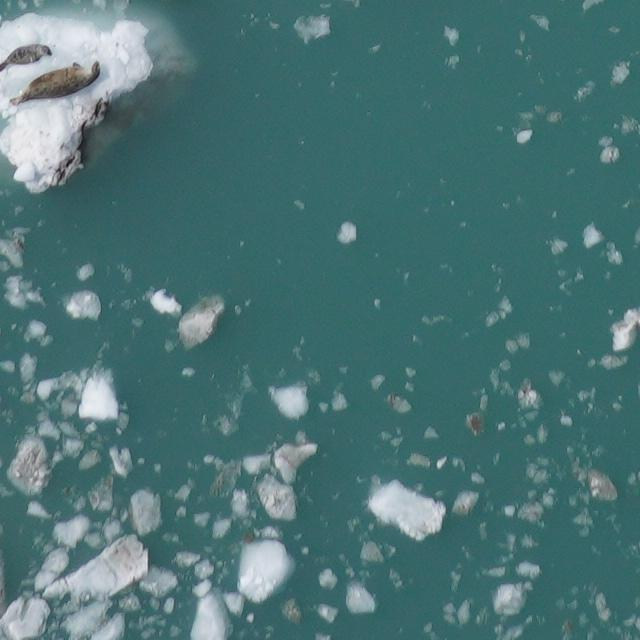seal: (6, 49, 107, 120), (0, 39, 52, 72)
